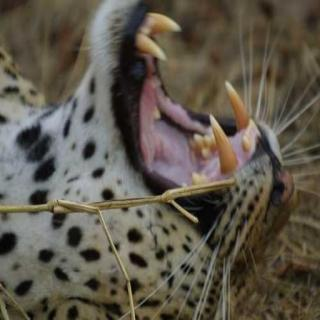Leopard: (10, 20, 319, 320)
